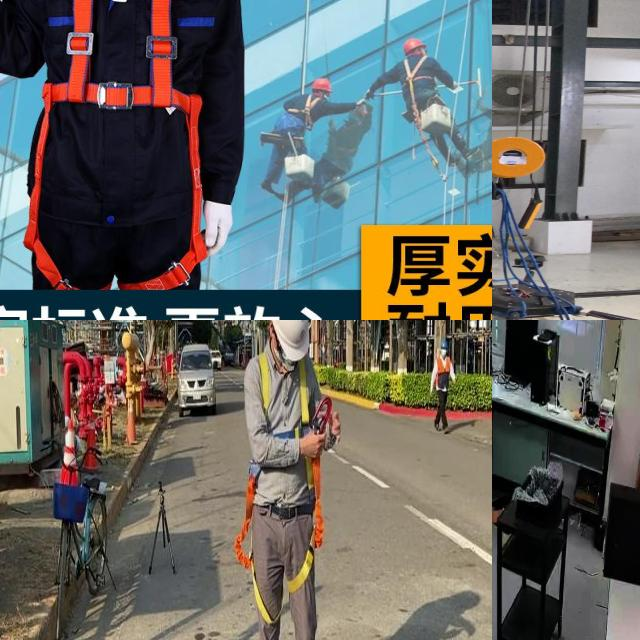Harness: (32, 0, 210, 289), (234, 468, 281, 626), (259, 352, 333, 438), (288, 458, 324, 594)
